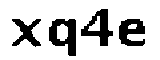4: (80, 5, 116, 48)
e: (116, 15, 148, 51)
q: (47, 16, 79, 60)
x: (9, 15, 43, 51)
